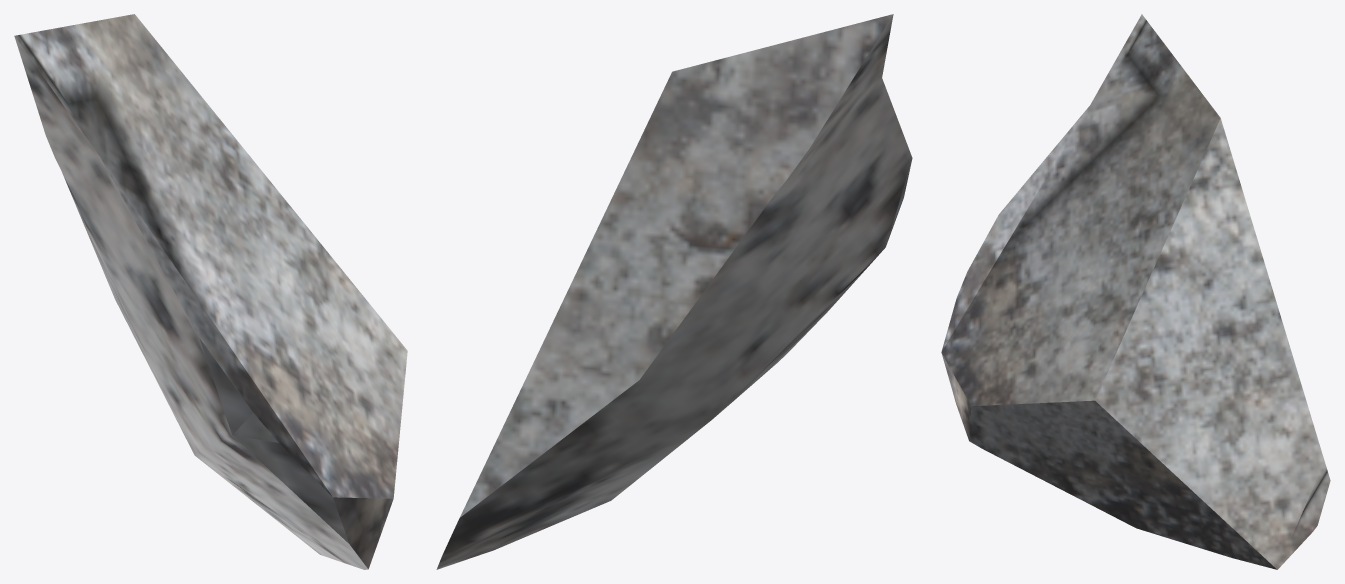
Rendered from Asteroid_Large_001_02_012_03_008.fbx.
3 renders of one model, left to right at view 1: azimuth 30°, elevation 25°; view 2: azimuth 150°, elevation 25°; view 3: azimuth 270°, elevation 25°, orthographic. The views are drawn at different scales.
Visible parts, largest first — view 1: Asteroid_Large_001_02_012_03_008; view 2: Asteroid_Large_001_02_012_03_008; view 3: Asteroid_Large_001_02_012_03_008.
Part boxes in pixels (x1,y1,x2,y2): Asteroid_Large_001_02_012_03_008: (14, 14, 407, 569); Asteroid_Large_001_02_012_03_008: (436, 14, 912, 569); Asteroid_Large_001_02_012_03_008: (941, 14, 1330, 569).
Bounding box in the file's own units: 4.32 × 6.53 × 5.42.
